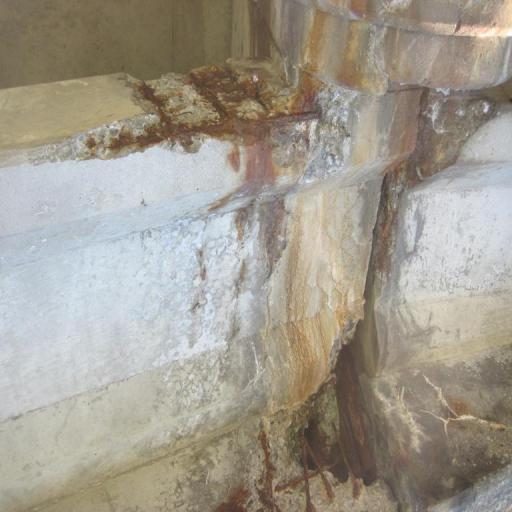spalling: (52, 60, 357, 179), (206, 420, 403, 512)
